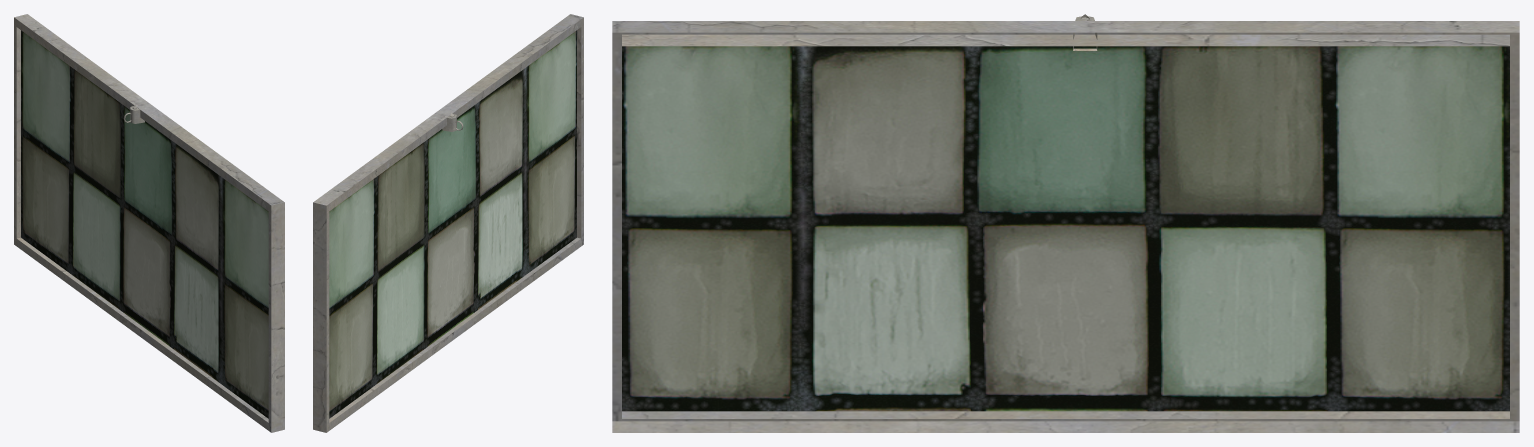
The model's file is Window_Tilt.fbx.
3 views of the same model, side by side, from view 1: azimuth 30°, elevation 25°; view 2: azimuth 150°, elevation 25°; view 3: azimuth 270°, elevation 25° (orthographic). The views are drawn at different scales.
Visible parts, largest first — view 1: Window_Tilt; view 2: Window_Tilt; view 3: Window_Tilt.
Part boxes in pixels (x1,y1,x2,y2): Window_Tilt: (14,14,284,432); Window_Tilt: (313,14,583,432); Window_Tilt: (612,14,1519,432).
Size of the model in its own units: 0.0717 by 0.589 by 1.19.
